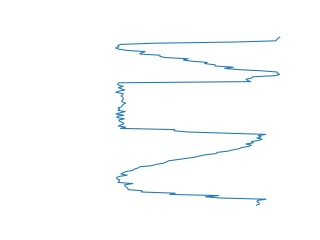distributaryChannelFill: (112, 73, 270, 141)
mouthBar: (114, 31, 284, 80)
underwaterDistributaryChannel: (113, 138, 270, 209)
